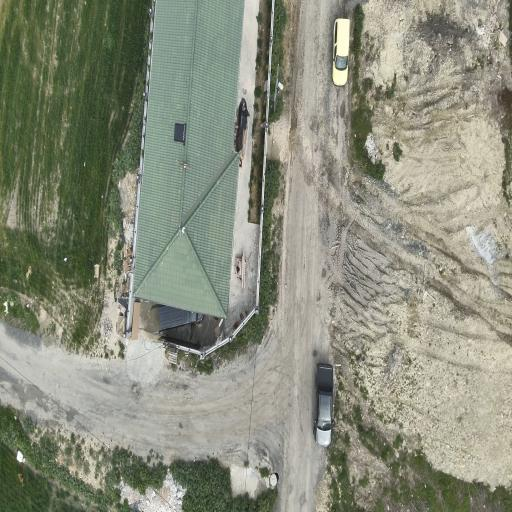car: (314, 363, 333, 446), (159, 304, 203, 329), (333, 18, 349, 85)
